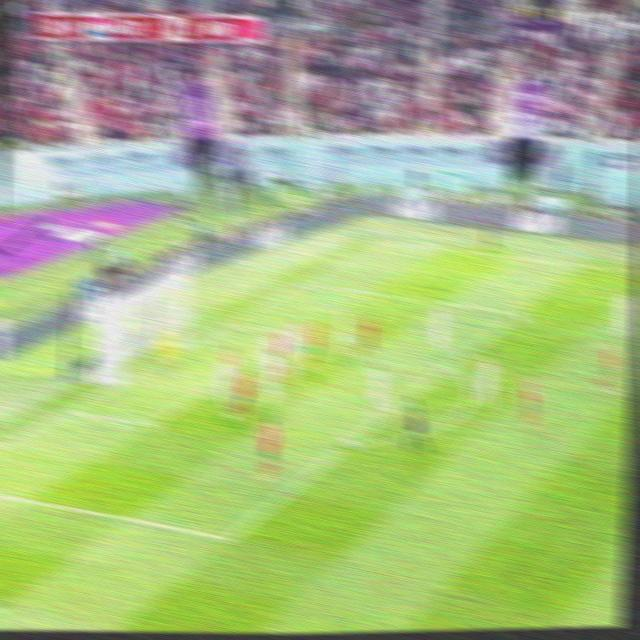bigarea_bottom_inner: (214, 521, 240, 551)
bigarea_top_inner: (505, 300, 528, 323)
bigarea_top_outter: (290, 271, 312, 292)
bottom_arc_area_intersection: (335, 430, 360, 454)
corner: (367, 232, 389, 249)
smallarea_bottom_inner: (135, 409, 162, 437)
smallarea_bottom_outter: (53, 395, 79, 423)
smallarea_top_outter: (215, 311, 238, 332)
top_arc_area_intersection: (435, 353, 457, 375)
